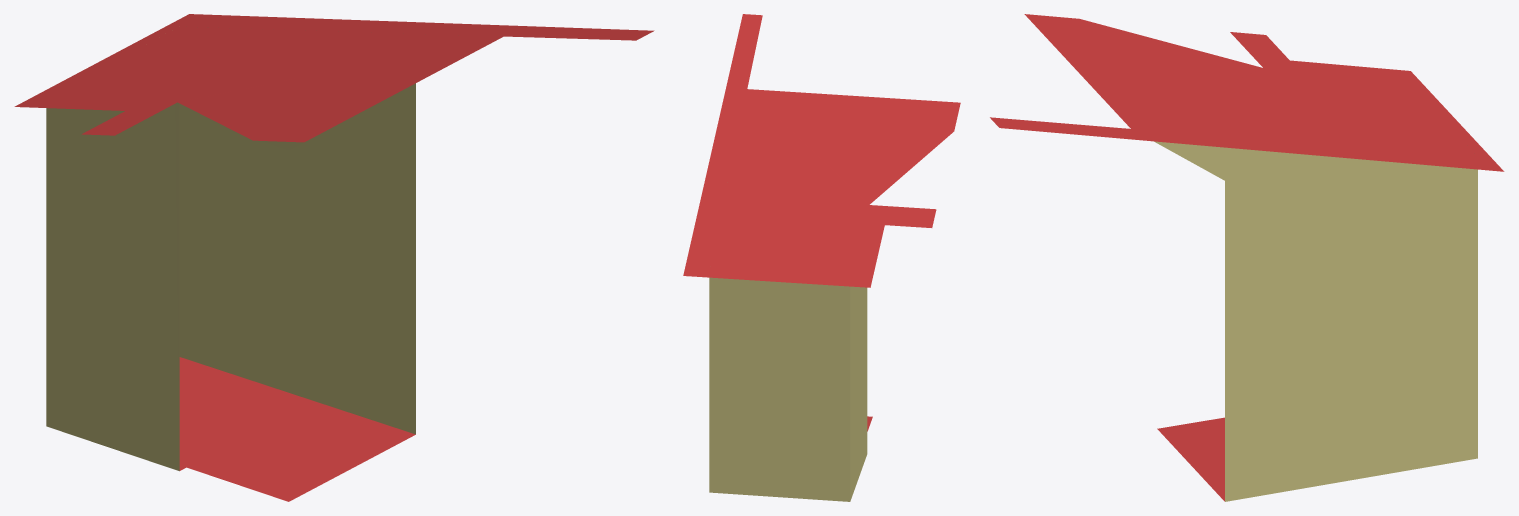
3 renders of one model, left to right at view 1: azimuth 30°, elevation 25°; view 2: azimuth 150°, elevation 25°; view 3: azimuth 270°, elevation 25°, orthographic. The views are drawn at different scales.
Bounding box in the file's own units: 12.19 × 13.95 × 12.71.
